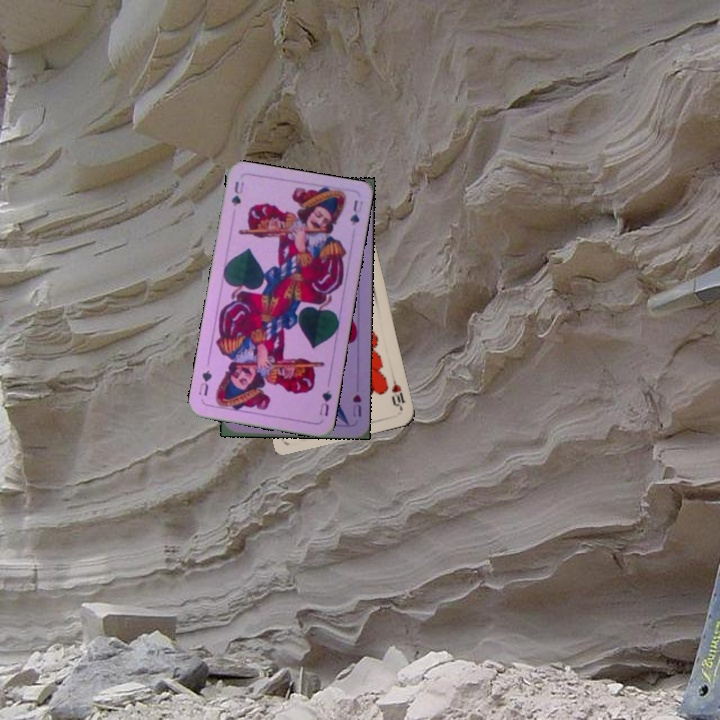GU: (315, 386, 334, 418), (227, 177, 246, 209)
H10: (387, 372, 407, 412)
HU: (348, 390, 364, 419)
